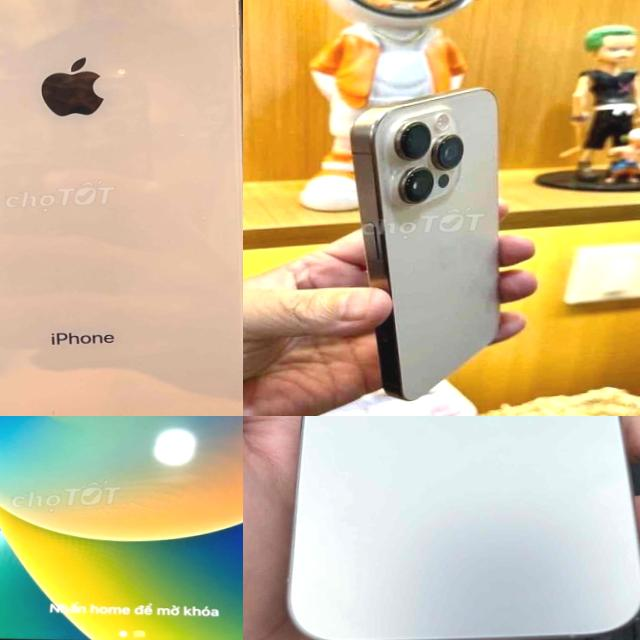gen_15: (269, 416, 640, 640)
gen_16: (334, 79, 537, 416)
gen_7_8: (0, 416, 243, 640)
gen_x_xs: (0, 0, 243, 416)
